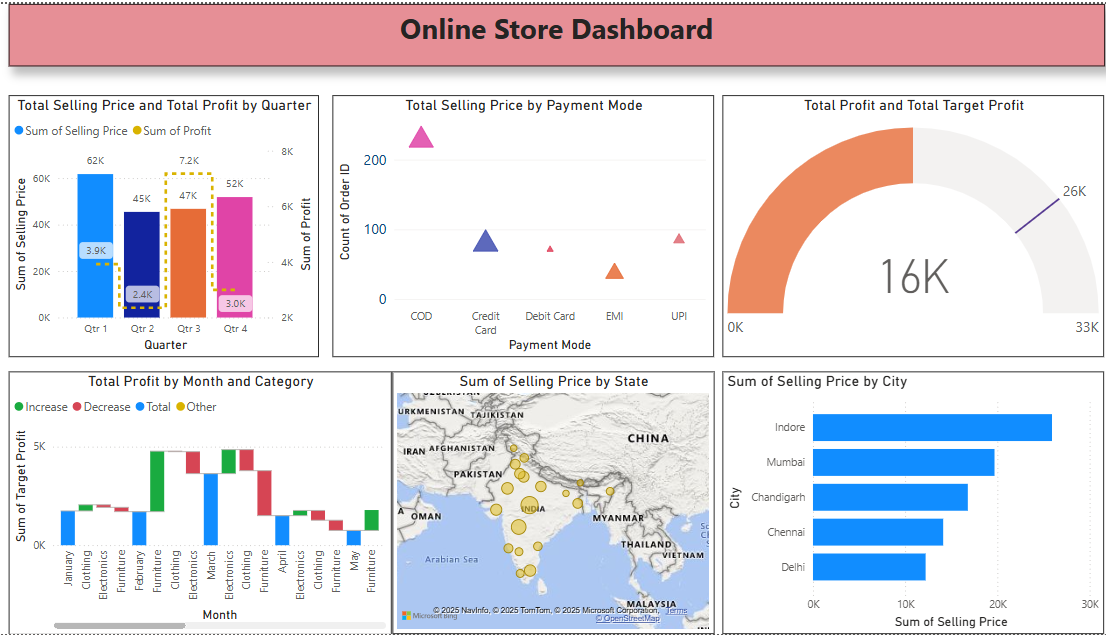

Layout of this report page (visuals, bound fields, positions):
{"tool":"powerbi","page":{"name":"Online Store Data","canvas":[1280,720],"ordinal":0},"visuals":[{"type":"textbox","box":[9.6,0,1252.8,71.4],"z":0},{"type":"textbox","box":[10,290,280,280],"z":1000},{"type":"lineStackedColumnComboChart","title":"Total Selling Price and  Total Profit by Quarter","fields":{"Category":["Sheet1.Order Date.Variation.Date Hierarchy.Quarter"],"Y":["Sum(Sheet1.Selling Price)"],"Y2":["Sum(Sheet1.Profit)"]},"box":[9.6,104.3,354,299.1],"z":2000},{"type":"scatterChart","title":" Total  Selling Price by Payment Mode","fields":{"X":["Sheet1.Payment Mode"],"Y":["CountNonNull(Sheet1.Order ID)"],"Size":["Sum(Sheet1.Selling Price)"]},"box":[380.1,104.3,436.4,299.1],"z":3000},{"type":"gauge","title":"Total Profit and Total Target Profit","fields":{"Y":["Sum(Sheet1.Profit)"],"TargetValue":["Sum(Sheet1.Target Profit)"]},"box":[826.1,104.3,436.4,299.1],"z":4000},{"type":"waterfallChart","title":"Total  Profit by Month and Category","fields":{"Category":["Sheet1.Order Date.Variation.Date Hierarchy.Month"],"Y":["Sum(Sheet1.Target Profit)"],"Breakdown":["Sheet1.Category"]},"box":[9.6,419.9,437.7,300.5],"z":5000},{"type":"map","fields":{"Category":["Sheet1.State"],"Size":["Sum(Sheet1.Selling Price)"]},"box":[448,420,368,300],"z":6000},{"type":"clusteredBarChart","fields":{"Category":["Sheet1.City"],"Y":["Sum(Sheet1.Selling Price)"]},"box":[826,420,436,300],"z":7000}]}

Visuals, with their boxes in screenshot pixels (x1, y1, x2, y2), scaled from the page's 1280x720 canvas onto the 1106x637 screenshot:
textbox: 8 0 1091 63
textbox: 9 257 251 504
"Total Selling Price and  Total Profit by Quarter" lineStackedColumnComboChart: 8 92 314 357
" Total  Selling Price by Payment Mode" scatterChart: 328 92 706 357
"Total Profit and Total Target Profit" gauge: 714 92 1091 357
"Total  Profit by Month and Category" waterfallChart: 8 371 386 636
map - Sheet1.State x Sum(Sheet1.Selling Price): 387 372 705 636
clusteredBarChart - Sheet1.City x Sum(Sheet1.Selling Price): 714 372 1090 636
